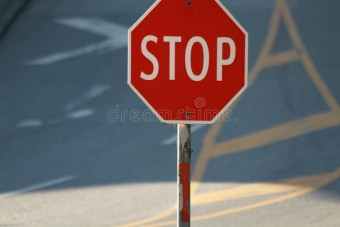SS: (124, 0, 253, 127)
